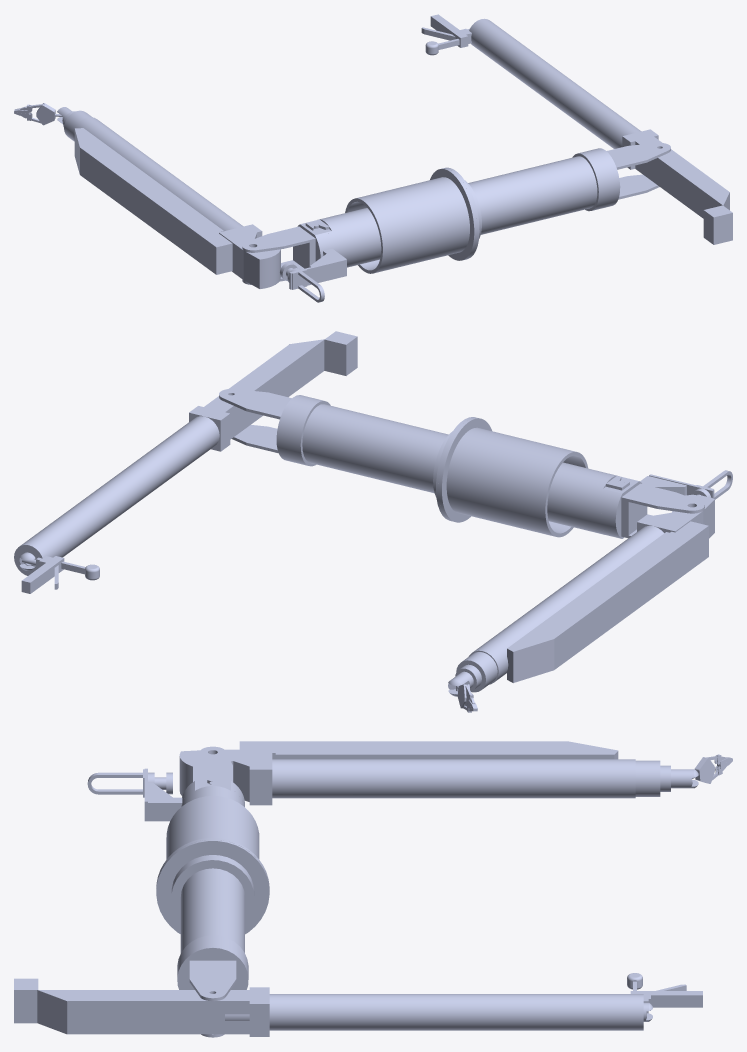
File: MSM_full.obj
3 renders of one model, top to bottom at view 1: azimuth 30°, elevation 25°; view 2: azimuth 150°, elevation 25°; view 3: azimuth 270°, elevation 25°, orthographic. The views are drawn at different scales.
Visible parts, largest first — view 1: 3DGeom-2; view 2: 3DGeom-2; view 3: 3DGeom-2.
Part boxes in pixels (x1,y1,x2,y2): 3DGeom-2: (14, 14, 732, 302); 3DGeom-2: (14, 331, 732, 712); 3DGeom-2: (14, 741, 732, 1037).
Bounding box in the file's own units: 1.86 × 0.34 × 2.15.
